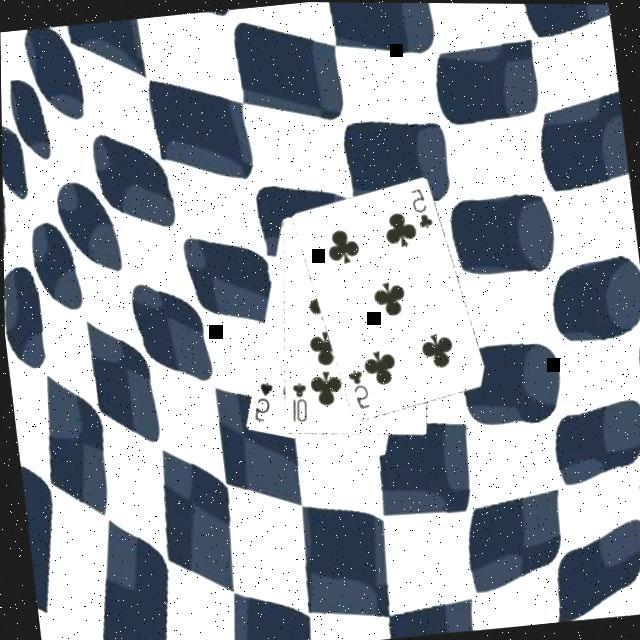10C: (281, 380, 311, 428)
5C: (341, 365, 372, 414), (405, 185, 436, 234)
5S: (243, 378, 277, 427)
